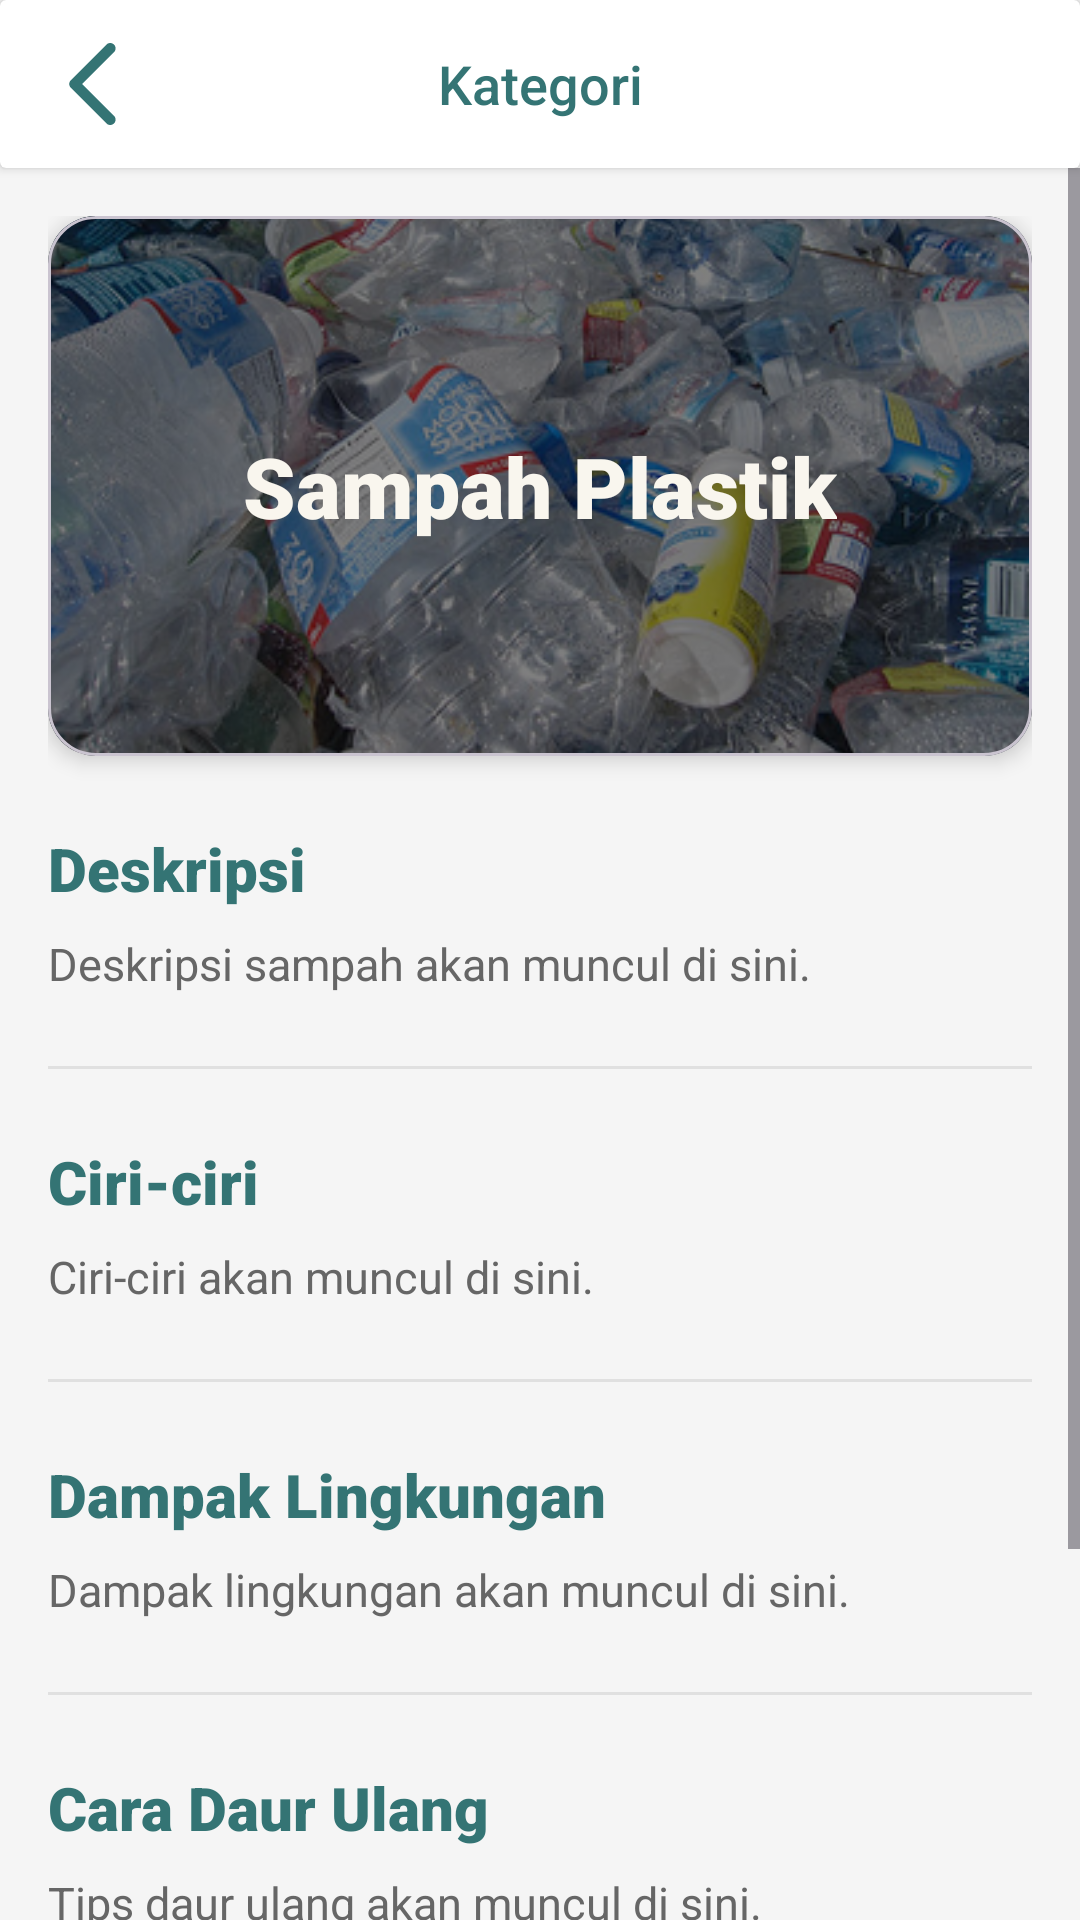

Icon click points for this 1080x1920 phone screenshot, format [x,y]:
caretleft: [92,84]
